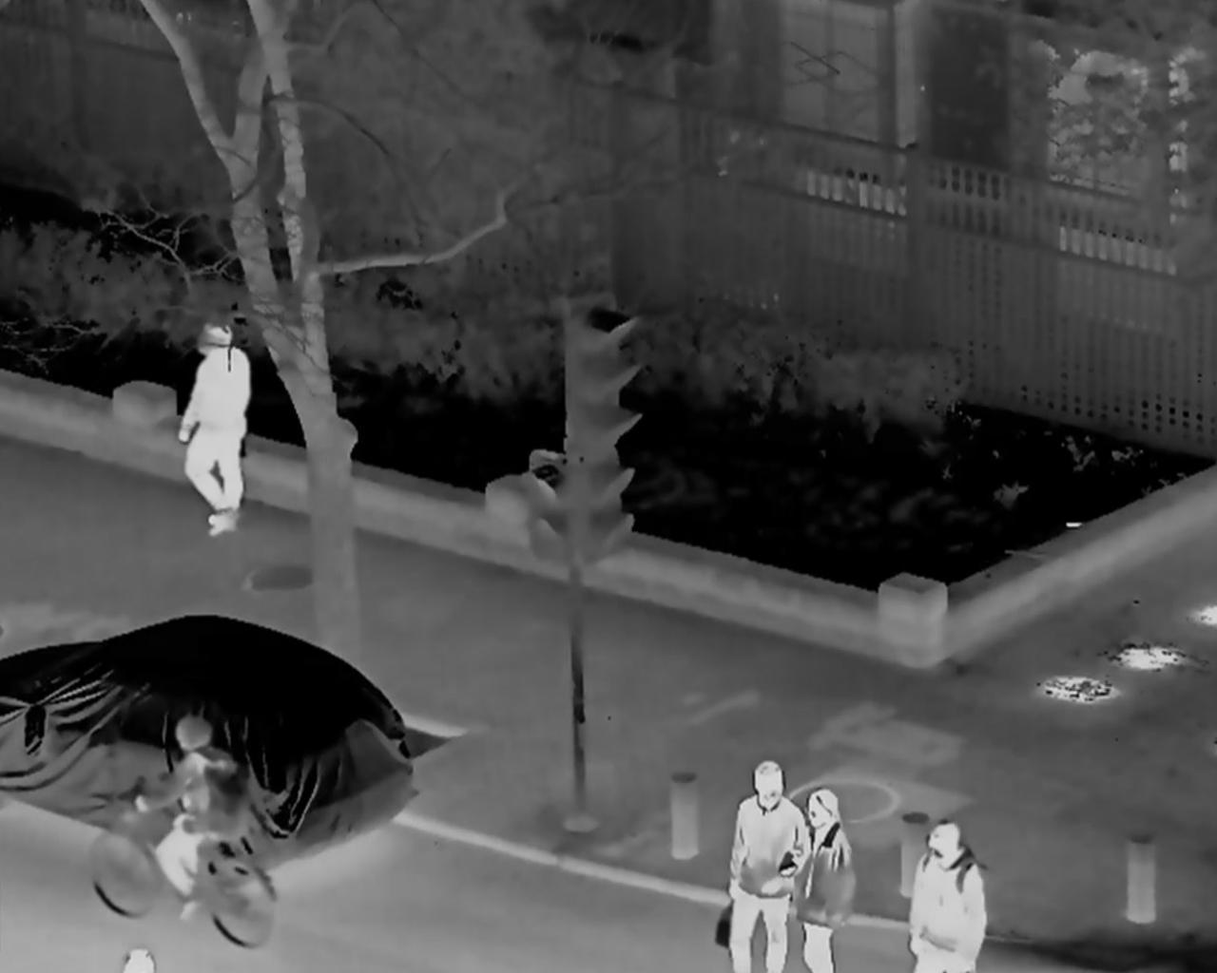person: (138, 715, 241, 904), (721, 763, 802, 973), (177, 309, 251, 537), (906, 823, 982, 973), (792, 788, 850, 973)
